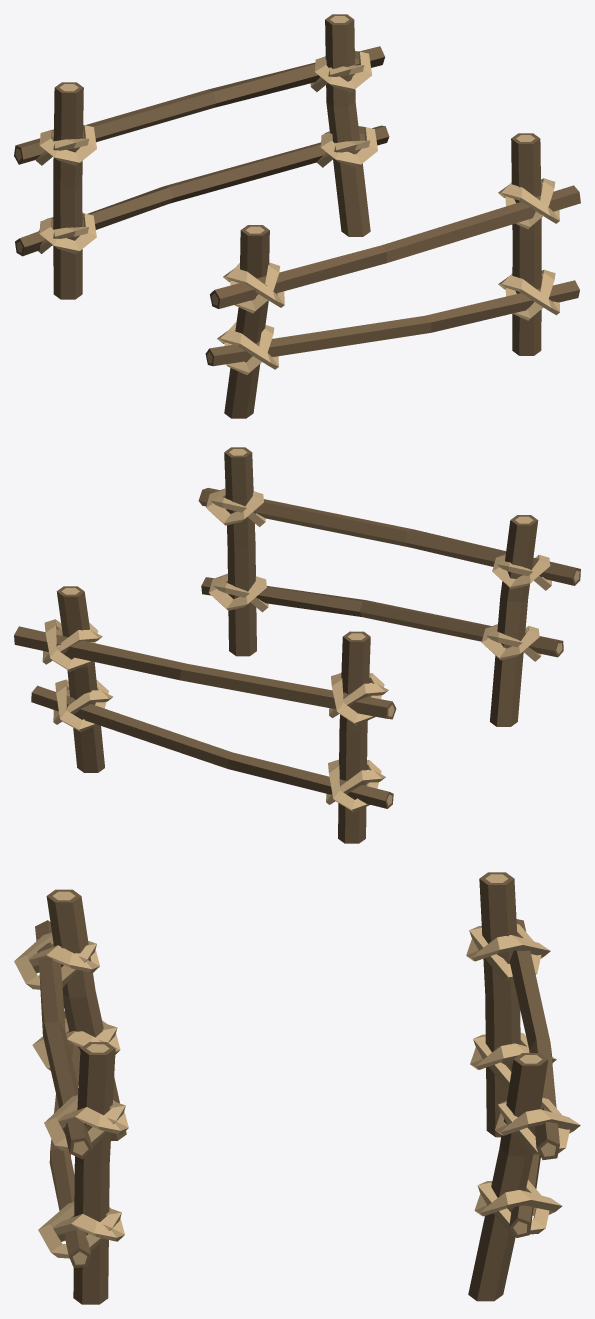
Rendered from rpgpp_ag_wall_platform_03_handrail_02b.fbx.
The picture shows the model from 3 angles, top to bottom: view 1: azimuth 30°, elevation 25°; view 2: azimuth 150°, elevation 25°; view 3: azimuth 270°, elevation 25°; orthographic projection. The views are drawn at different scales.
Visible parts, largest first — view 1: rpgpp_ag_wall_platform_03_handrail_02b; view 2: rpgpp_ag_wall_platform_03_handrail_02b; view 3: rpgpp_ag_wall_platform_03_handrail_02b.
Boxes of the visible parts, left/top/right/bottom form: rpgpp_ag_wall_platform_03_handrail_02b: left=14, top=14, right=580, bottom=418; rpgpp_ag_wall_platform_03_handrail_02b: left=14, top=447, right=580, bottom=843; rpgpp_ag_wall_platform_03_handrail_02b: left=14, top=872, right=580, bottom=1304.
Size of the model in its own units: 2.8 by 1.48 by 3.03.
